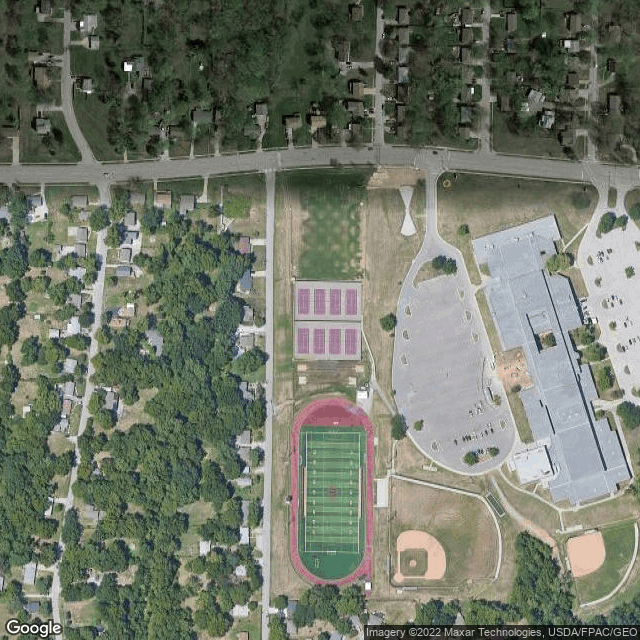Court: (295, 288, 310, 315), (312, 328, 326, 355), (328, 328, 342, 355), (343, 329, 357, 355), (345, 289, 358, 315), (314, 288, 326, 315), (329, 288, 341, 315), (297, 328, 309, 355)
